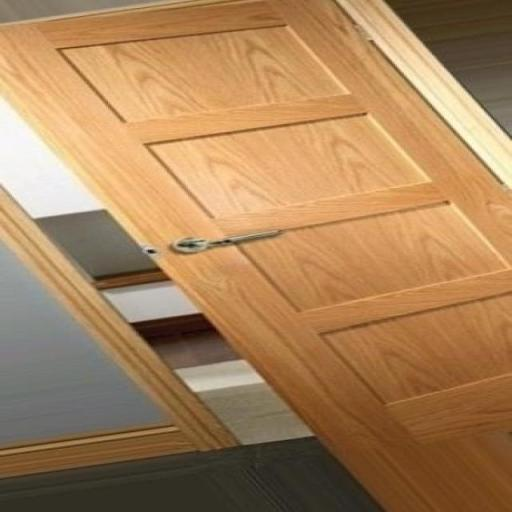door: (0, 0, 510, 511)
